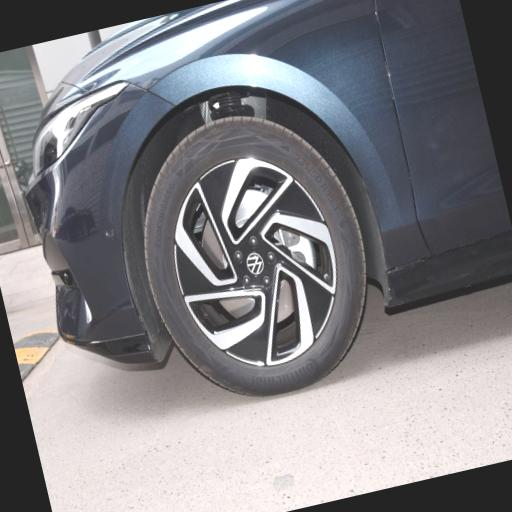Sedan-sDLz: (0, 0, 512, 450)
